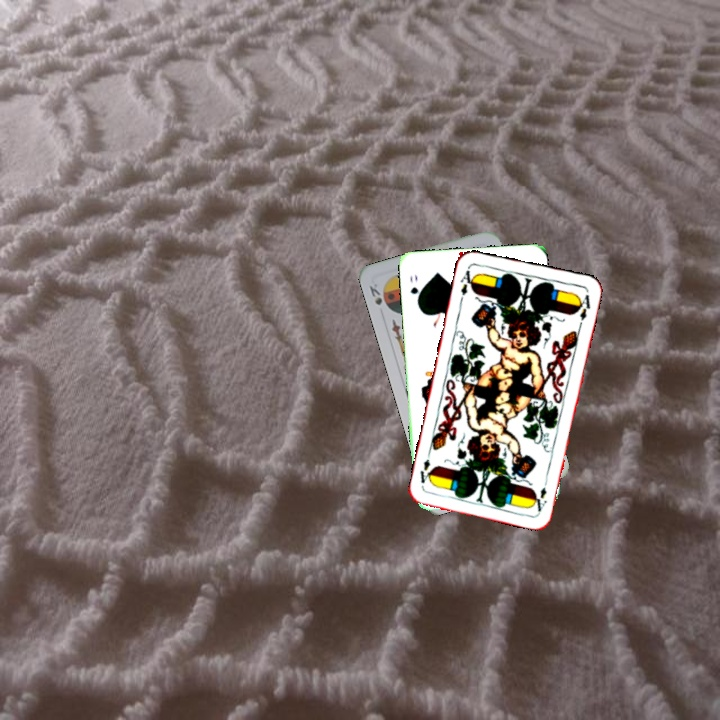EA: (455, 265, 477, 305), (533, 474, 551, 514)
GO: (406, 271, 423, 306)
SK: (365, 279, 385, 308)
